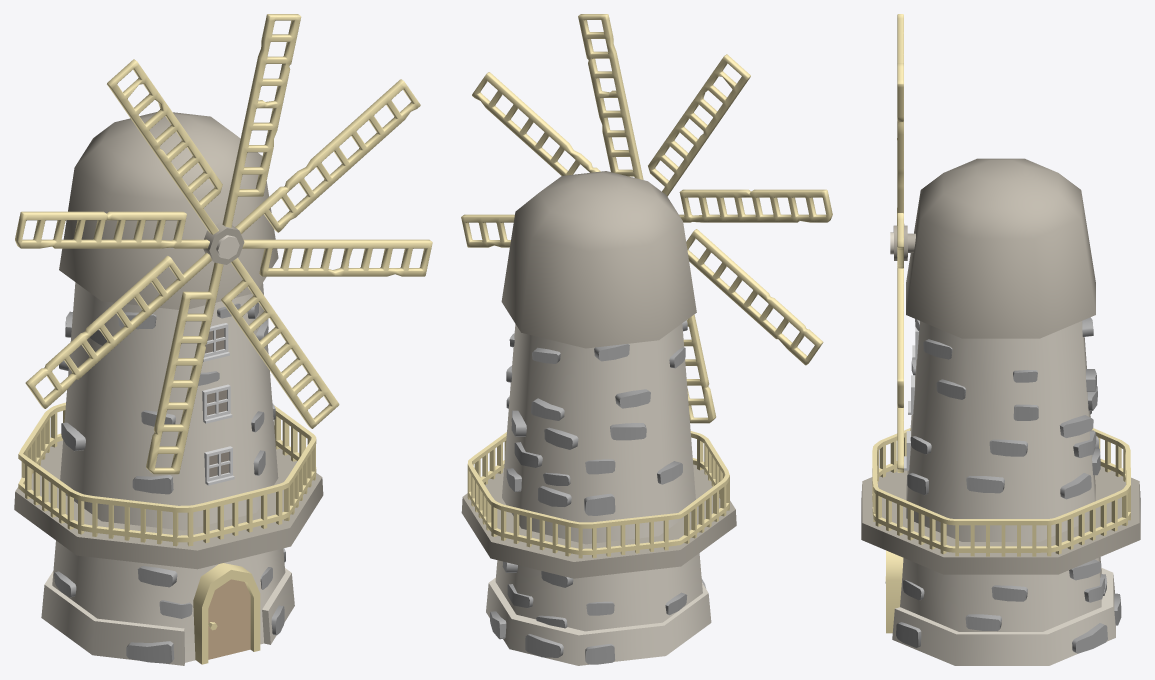
Rendered from OW_Windmill.fbx.
3 renders of one model, left to right at view 1: azimuth 30°, elevation 25°; view 2: azimuth 150°, elevation 25°; view 3: azimuth 270°, elevation 25°, orthographic. The views are drawn at different scales.
Parts seen in each view (by area): view 1: TowerWindmill, BladesPivot; view 2: TowerWindmill, BladesPivot; view 3: TowerWindmill, BladesPivot.
Boxes of the visible parts, bbox=[...] form: TowerWindmill: bbox=[14, 112, 323, 665]; BladesPivot: bbox=[15, 14, 432, 474]; TowerWindmill: bbox=[461, 171, 736, 665]; BladesPivot: bbox=[461, 14, 832, 423]; TowerWindmill: bbox=[861, 158, 1140, 665]; BladesPivot: bbox=[897, 14, 904, 472].
Bounding box in the file's own units: 966 × 1392 × 609.
